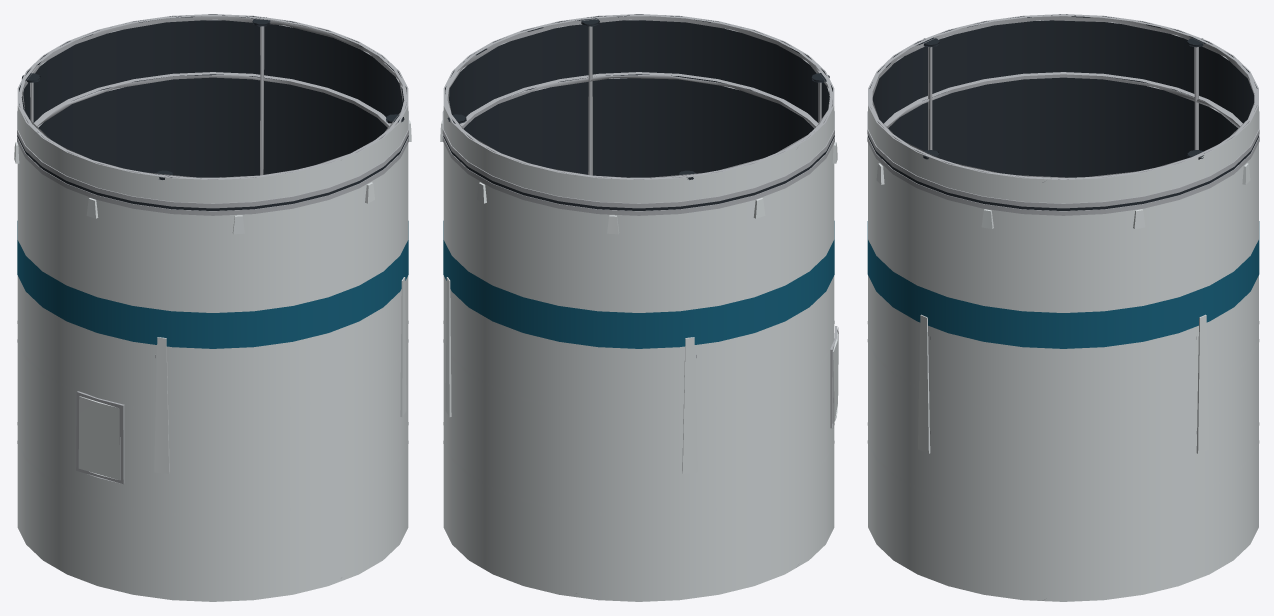
Rendered from interstage_pneumatic_d54.glb.
The picture shows the model from 3 angles, left to right: view 1: azimuth 30°, elevation 25°; view 2: azimuth 150°, elevation 25°; view 3: azimuth 270°, elevation 25°; orthographic projection.
Visible parts, largest first — view 1: interstage_pneumatic_d54_mesh; view 2: interstage_pneumatic_d54_mesh; view 3: interstage_pneumatic_d54_mesh.
Part boxes in pixels (x1=…): interstage_pneumatic_d54_mesh: x1=14, y1=14, x2=411, y2=601; interstage_pneumatic_d54_mesh: x1=440, y1=14, x2=838, y2=601; interstage_pneumatic_d54_mesh: x1=867, y1=14, x2=1259, y2=601.
Bounding box in the file's own units: 5.42 × 6.4 × 5.39.
